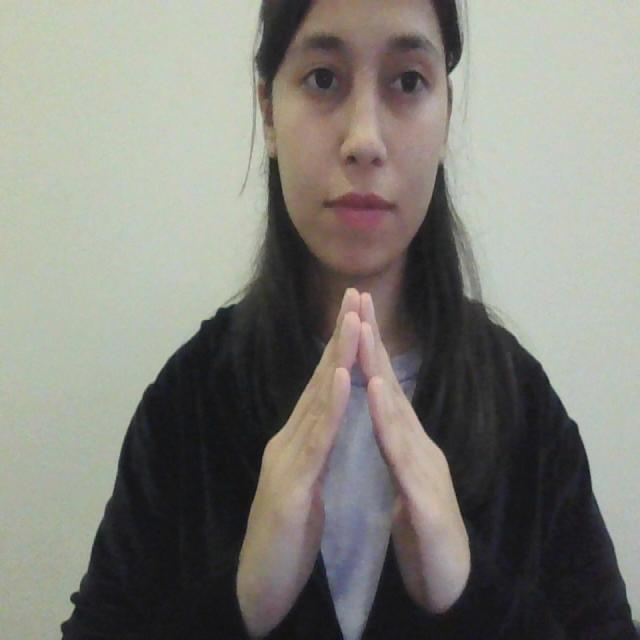Ev: (235, 286, 473, 635)
